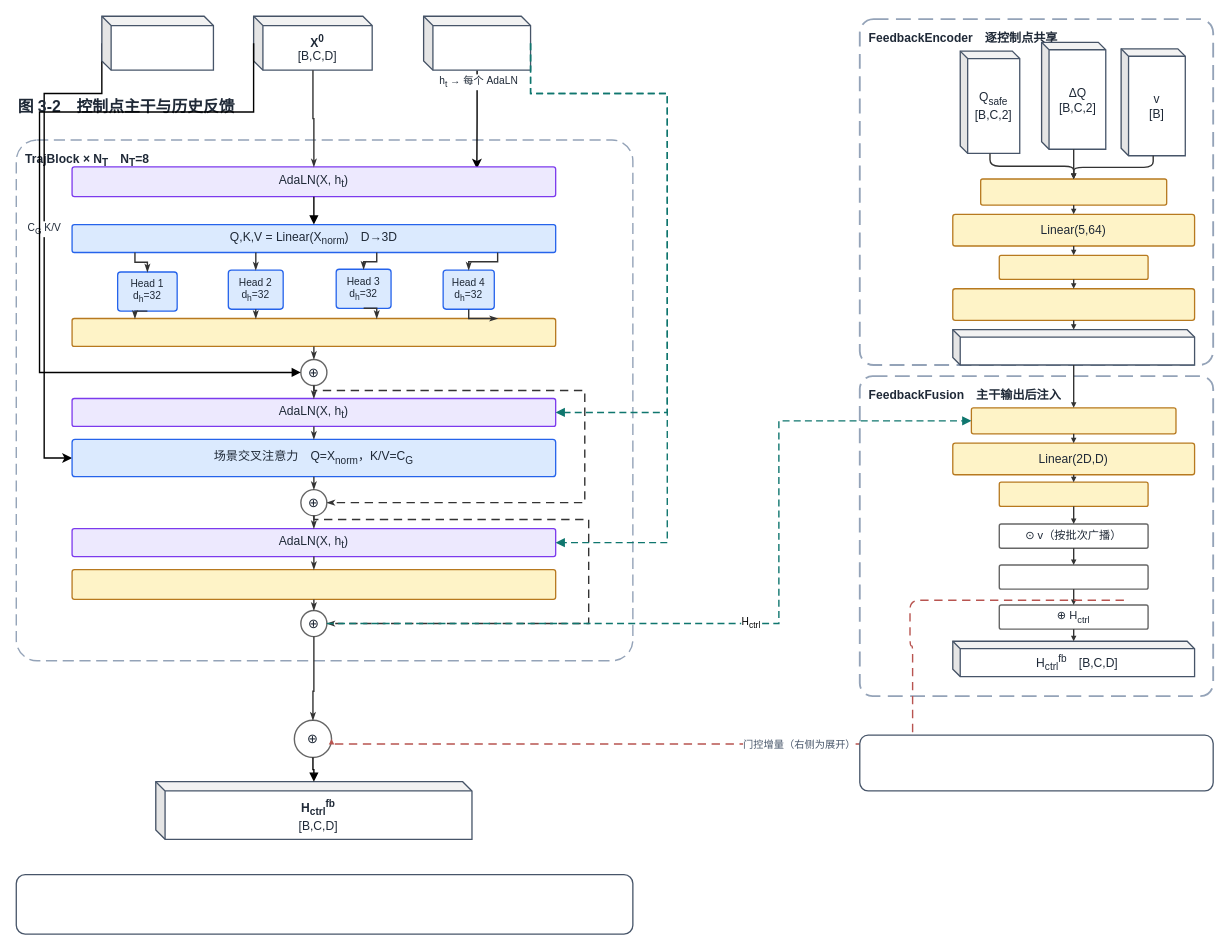
Image size: 1230x951. Some labels were removed from this diagram. Here are the shapes that lost their labels. From the top down, the centre of each, then its label:
[157,42]: C G [B,N G ,D]
[476,42]: h t [B,D]
[1073,191]: Concat(Q safe , ΔQ, v) [B,C,5]
[1073,267]: SiLU
[1073,304]: Linear(64,D) 零初始化
[313,332]: Concat heads → Linear(D,D)
[1073,347]: h fb [B,C,D]
[1073,420]: Concat(H ctrl , h fb ) [B,C,2D]
[1073,494]: Sigmoid
[313,584]: FFN D→512→D（GELU）
[1073,576]: ⊙ h fb
[1036,762]: v=0 时：H ctrl fb =H ctrl 右侧门控是中央 ⊕ 的展开
[324,904]: X 0 = MLP T (Φ xy (Q t )) + PE 1D C=48，D=128，N G =256；⊕：残差相加
